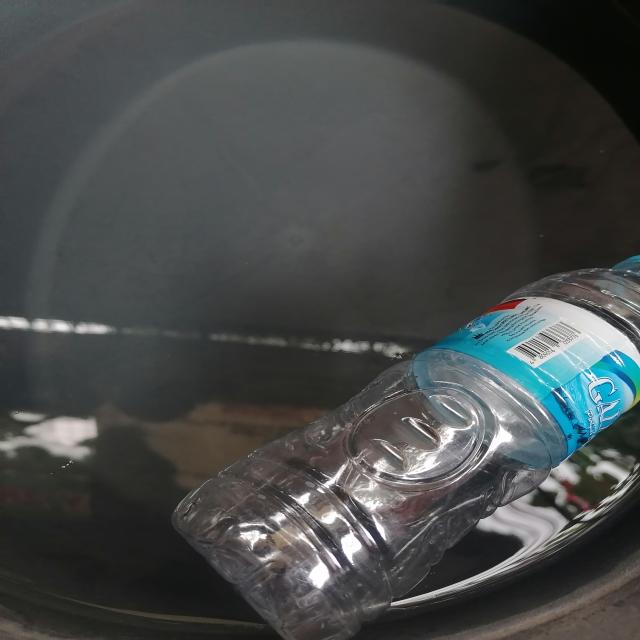Plastic Bottle: (172, 256, 640, 640)
